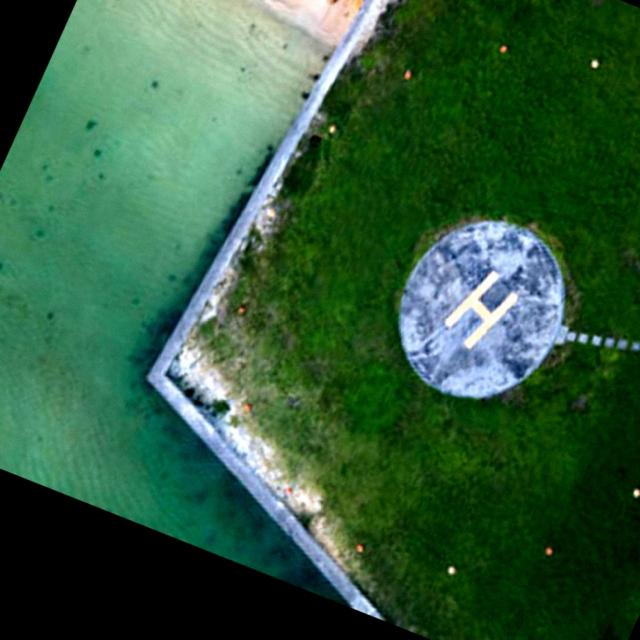helipad: (392, 214, 570, 400)
